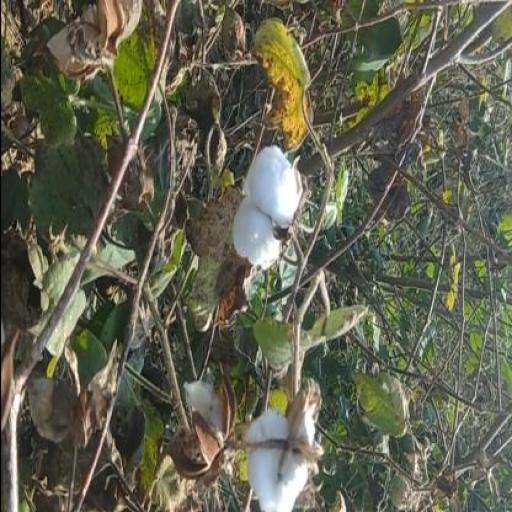cotton_ready: (224, 126, 305, 288), (234, 386, 317, 511)
